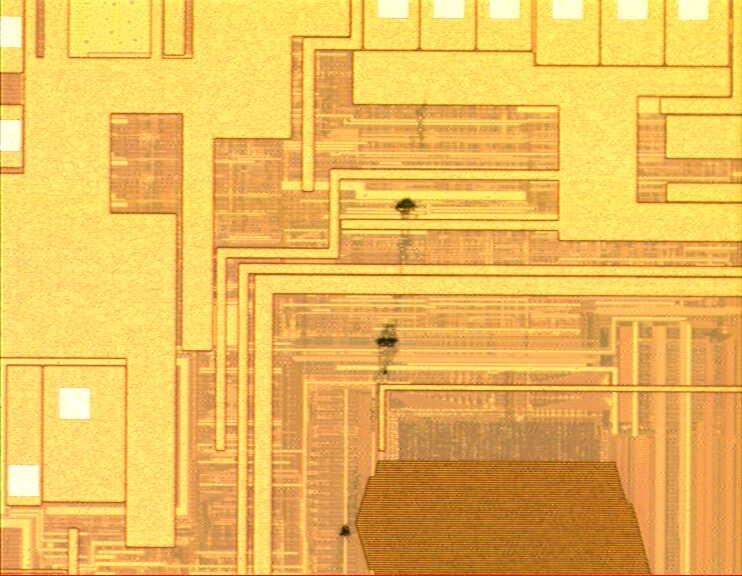SCRATCH: (322, 80, 445, 576)
